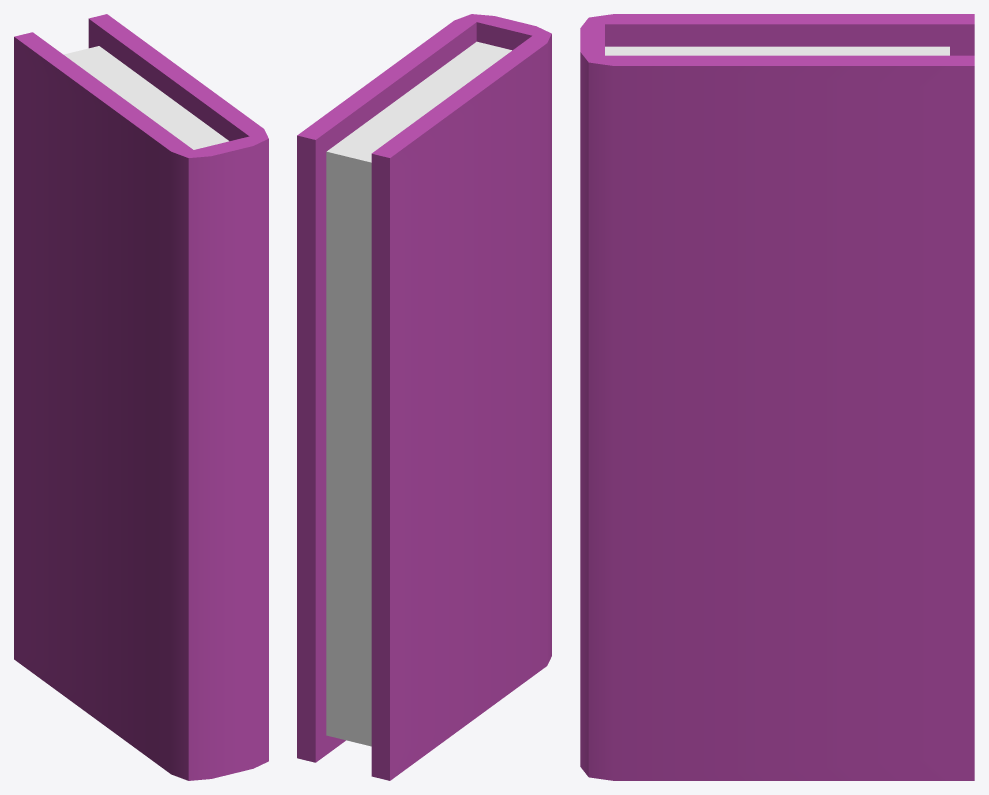
File: BOOK - PINK.fbx
3 renders of one model, left to right at view 1: azimuth 30°, elevation 25°; view 2: azimuth 150°, elevation 25°; view 3: azimuth 270°, elevation 25°, orthographic. The views are drawn at different scales.
Parts seen in each view (by area): view 1: Box001, Object; view 2: Box001, Object; view 3: Box001, Object.
Part boxes in pixels (bbox=[...]): Box001: bbox=[14, 14, 268, 780]; Object: bbox=[64, 46, 228, 149]; Box001: bbox=[297, 14, 551, 780]; Object: bbox=[326, 41, 511, 746]; Box001: bbox=[580, 14, 974, 780]; Object: bbox=[605, 46, 949, 55].
Size of the model in its own units: 5 by 32 by 16.
